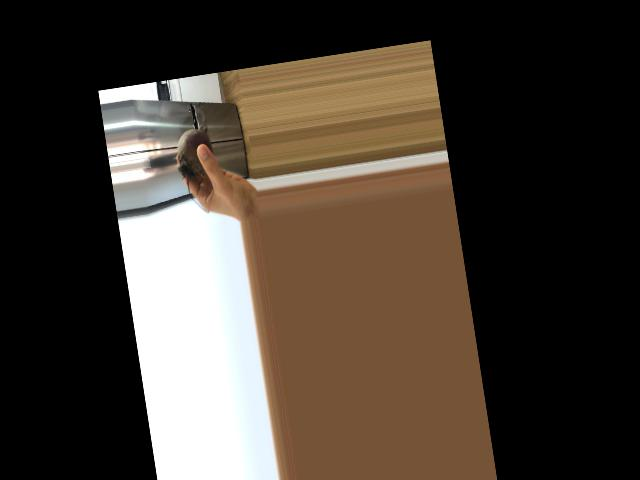beet: (171, 118, 221, 215)
